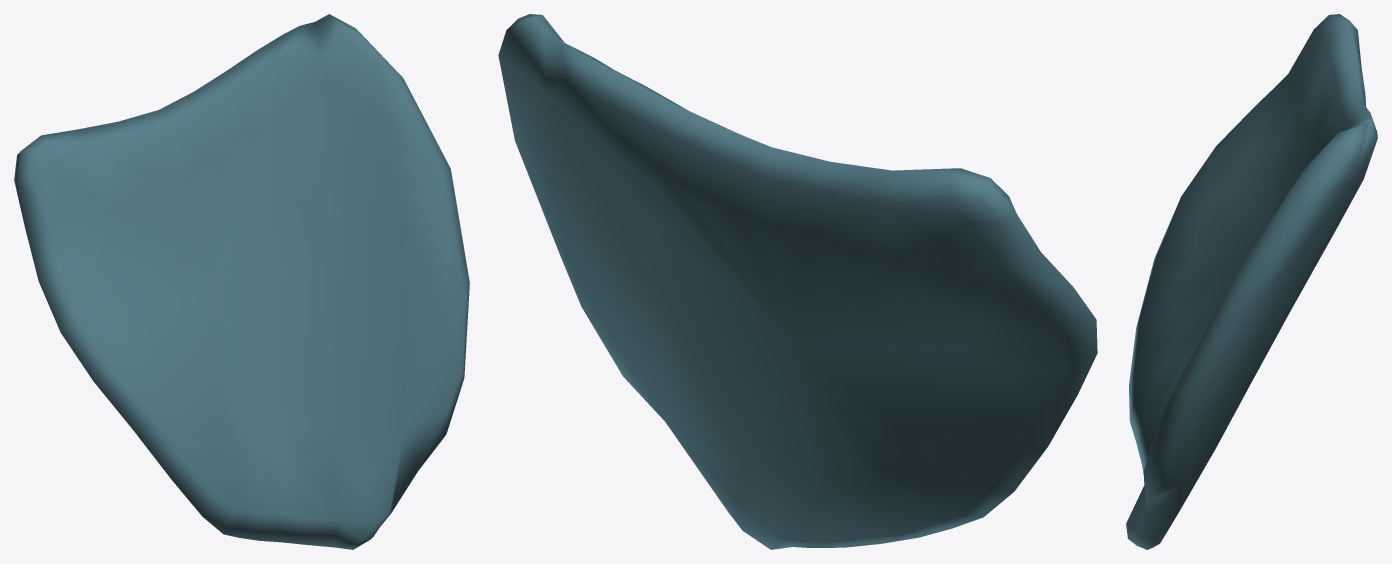
File: Extensor_digitorum-proximal_phalanx-5th_finger.r_Generated_Mesh.glb
The picture shows the model from 3 angles, left to right: view 1: azimuth 30°, elevation 25°; view 2: azimuth 150°, elevation 25°; view 3: azimuth 270°, elevation 25°; orthographic projection. The views are drawn at different scales.
Parts seen in each view (by area): view 1: Extensor_digitorum-proximal_phalanx-5th_finger.r_Generated_M; view 2: Extensor_digitorum-proximal_phalanx-5th_finger.r_Generated_M; view 3: Extensor_digitorum-proximal_phalanx-5th_finger.r_Generated_M.
Boxes of the visible parts, x1,y1,x2,y2 form: Extensor_digitorum-proximal_phalanx-5th_finger.r_Generated_M: (14,14,469,549); Extensor_digitorum-proximal_phalanx-5th_finger.r_Generated_M: (498,14,1097,549); Extensor_digitorum-proximal_phalanx-5th_finger.r_Generated_M: (1126,14,1377,549).
Size of the model in its own units: 0.00553 by 0.00573 by 0.00283.
